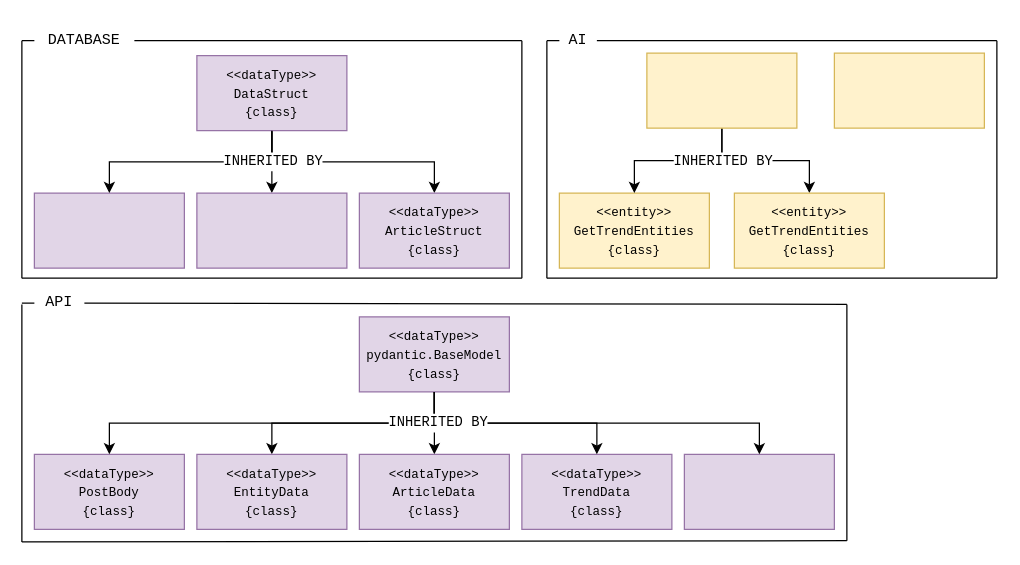
Image size: 1020x565. Some labels were removed from this diagram. The shapes that lost their labels are listed below. From the top down, each one's centre as x and y in pixels, then its label:
At [721,90]: "<<entity>> AiFunction {class}".
At [908,90]: "<<entity>> AiRequest {class}".
At [108,230]: "<<dataType>> TrendStruct {class}".
At [271,230]: "<<dataType>> EntityStruct {class}".
At [758,491]: "<<dataType>> APIResponse {class}".
